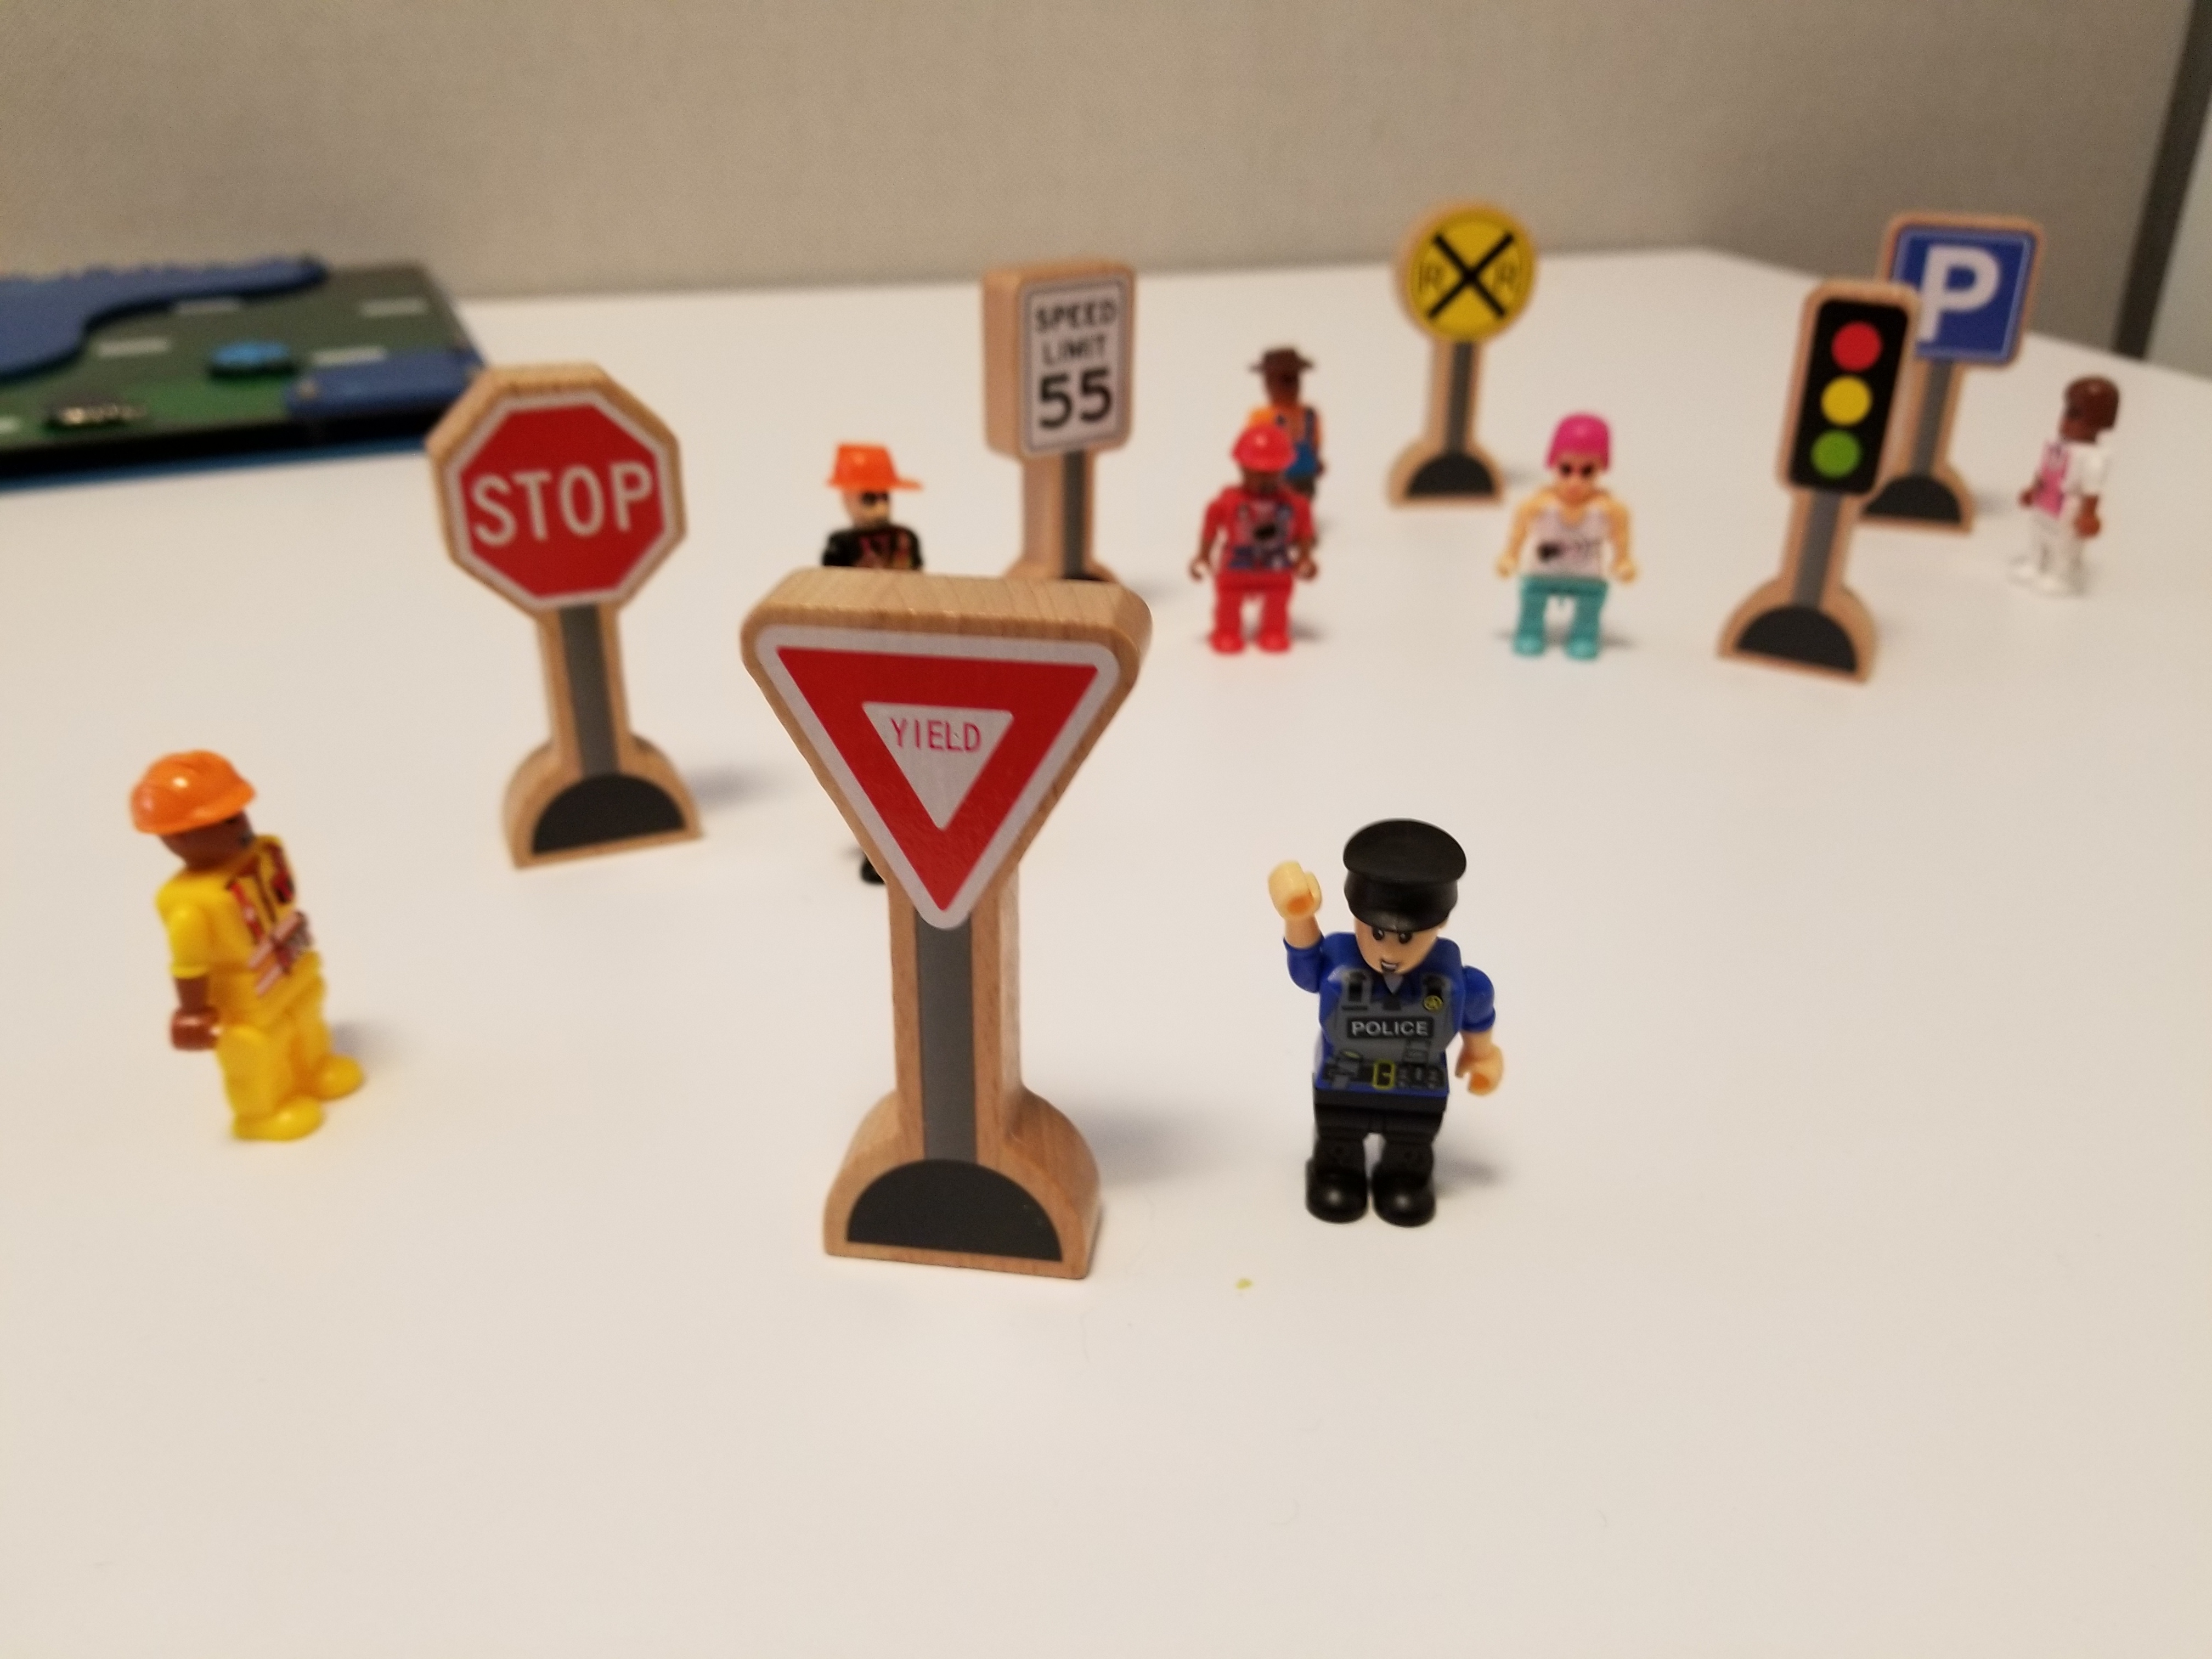Parking: (1891, 185, 2051, 370)
Railroad Crossing: (1362, 185, 1544, 526)
Speed limit 55: (960, 247, 1149, 504)
Stop: (411, 359, 730, 877)
Traffic Light: (1746, 256, 1923, 719)
Yield: (736, 552, 1109, 1300)
person: (1237, 787, 1544, 1254), (98, 714, 387, 1162), (1195, 332, 1338, 659), (1520, 398, 1664, 688), (2033, 352, 2143, 648)
